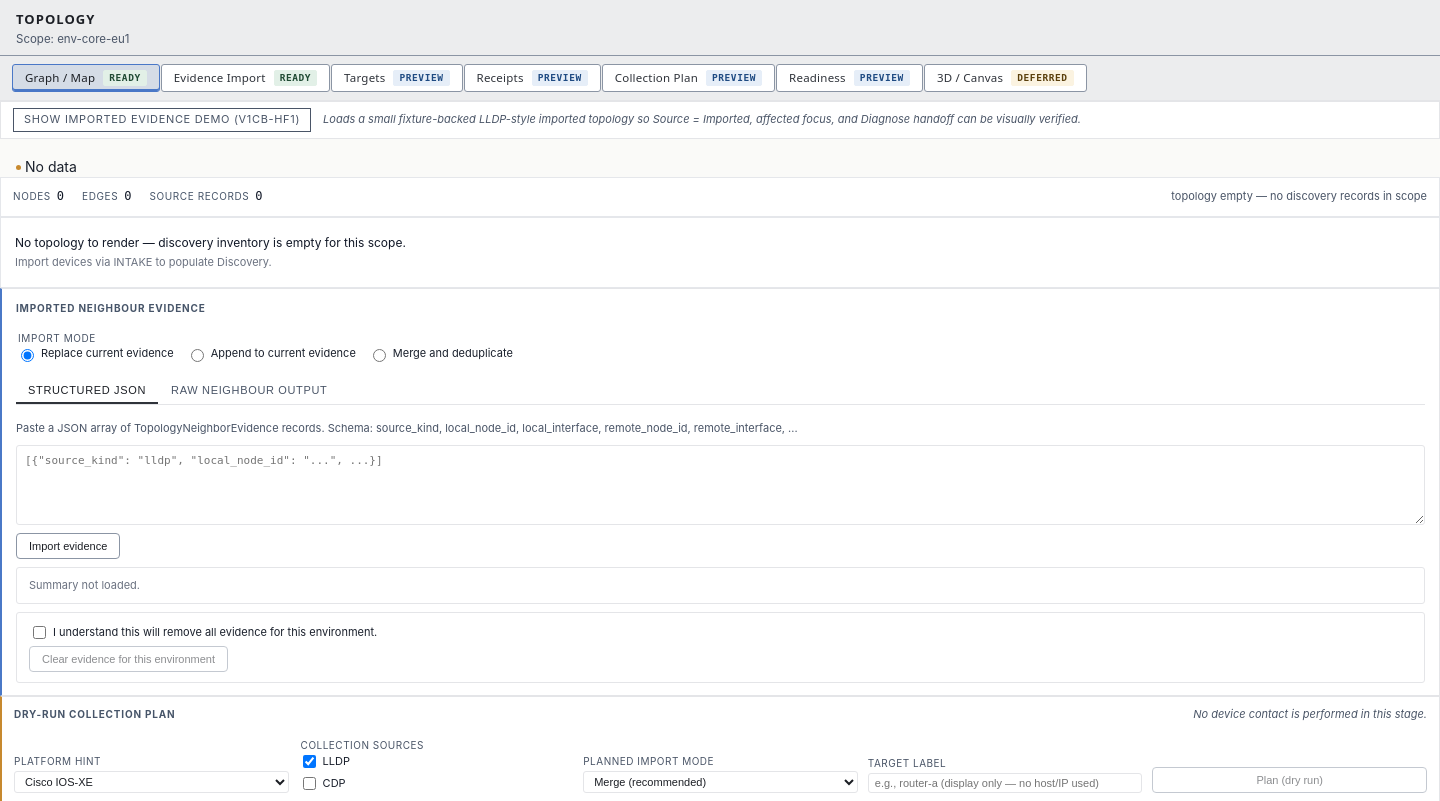
Scenario: TopologyMode › TopologyMode — V1AP Raw neighbour output import (UI) › rejected list caps at 5 items
Click the tab with test id "tm-evidence-tab-raw". click: click(249, 391)
box: 159,378 -> 340,404
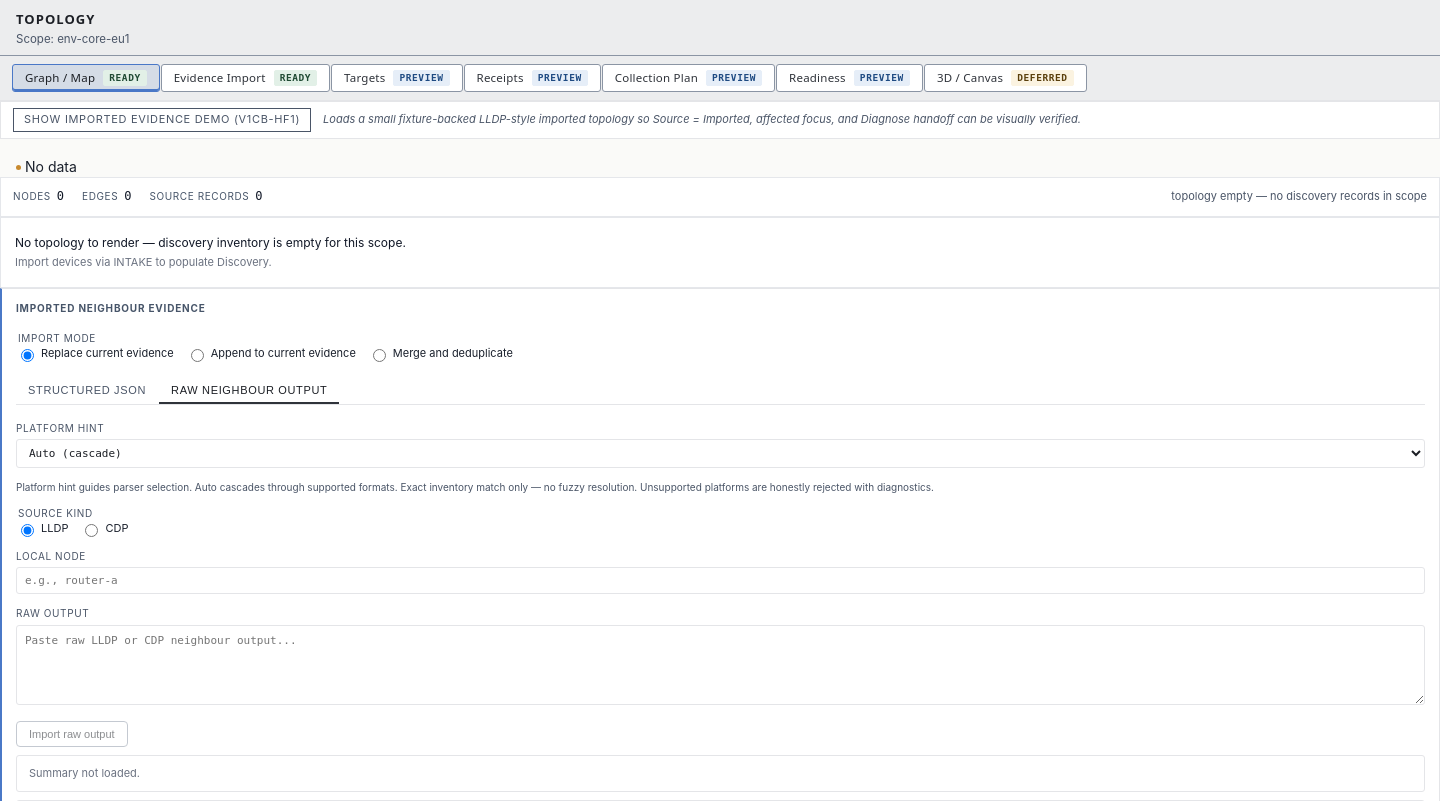
Type "router-a" into the field with test id "tm-raw-local-node". click: (720, 581)
box: 16,567 -> 1425,594
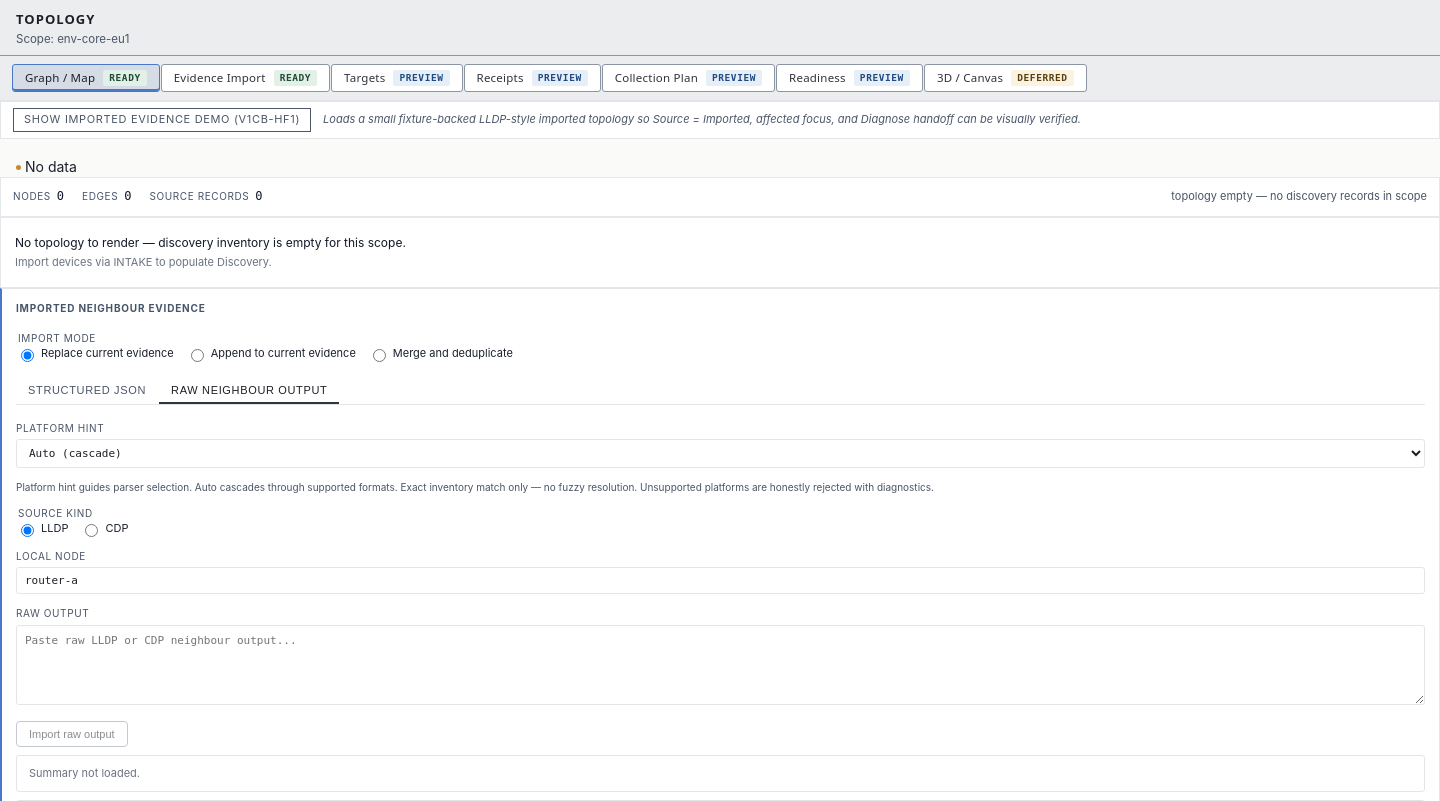
Type "raw output" into the text box with test id "tm-raw-output-textarea". click: (720, 665)
box: 16,625 -> 1425,705
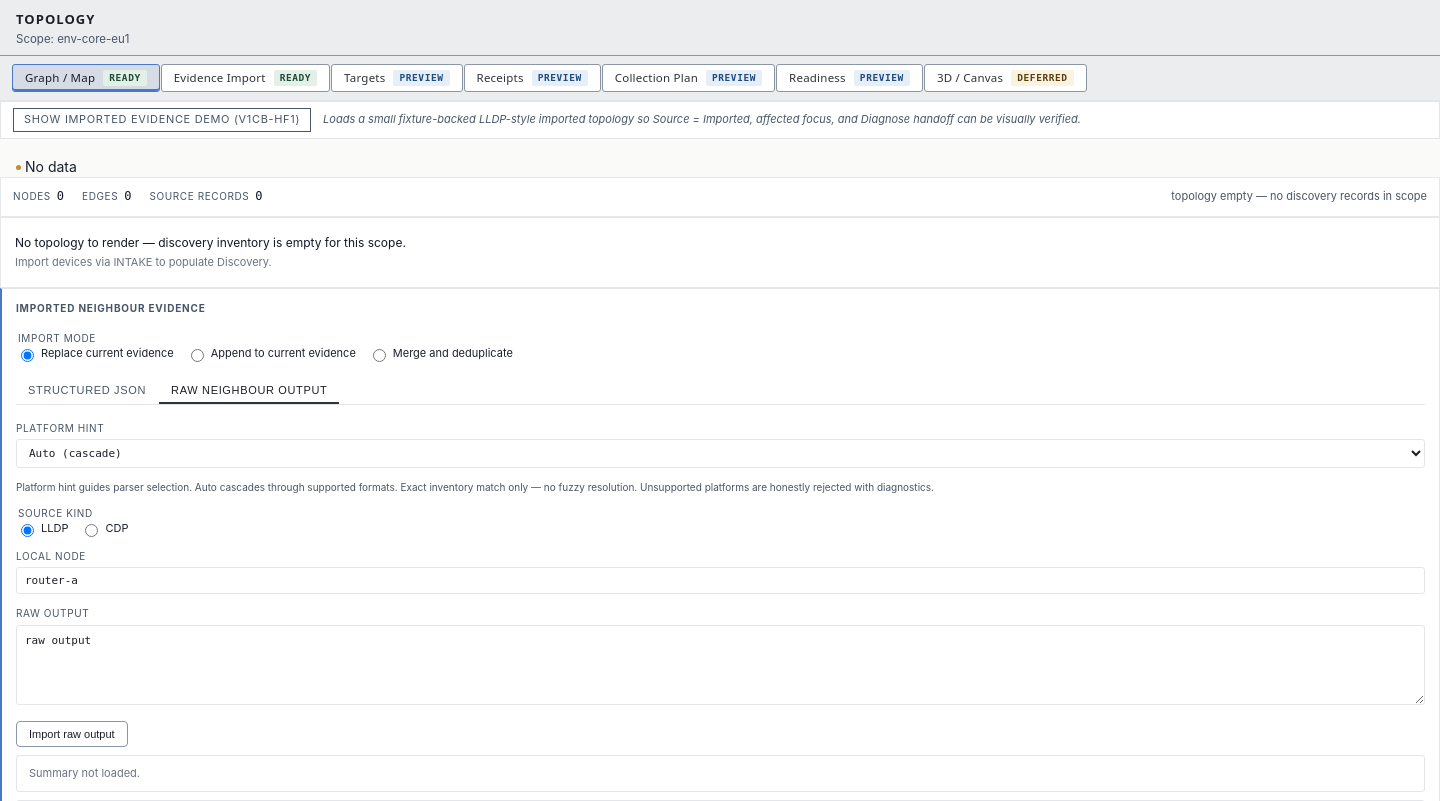
Click the button with test id "tm-raw-import-button". click: click(72, 734)
box: 16,721 -> 128,747
(page scrolled)
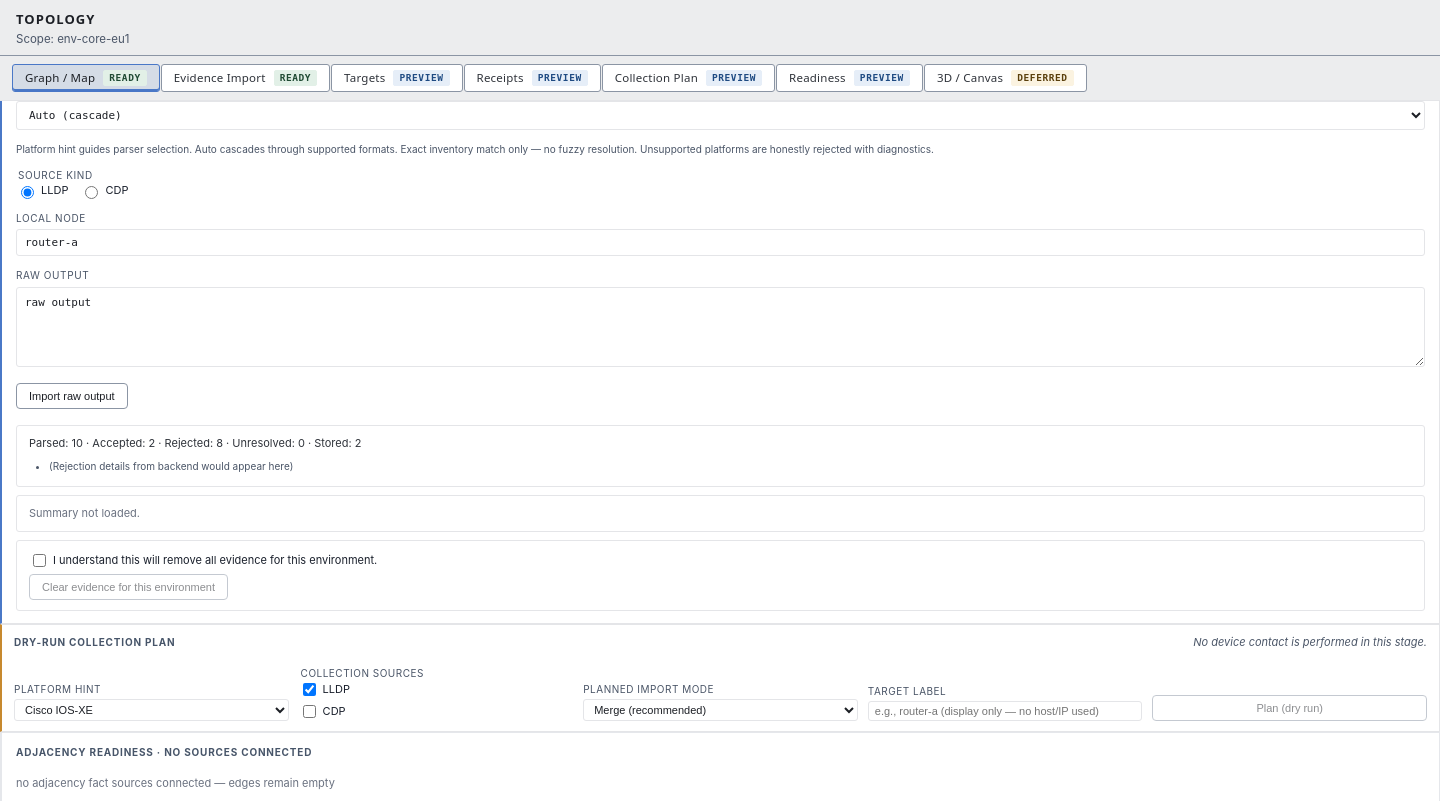
Now the element with test id "tm-raw-import-result" is shown, box 16,425 -> 1425,487
Now the element with test id "tm-raw-import-result" shows "Rejected: 8", box 29,436 -> 361,450
